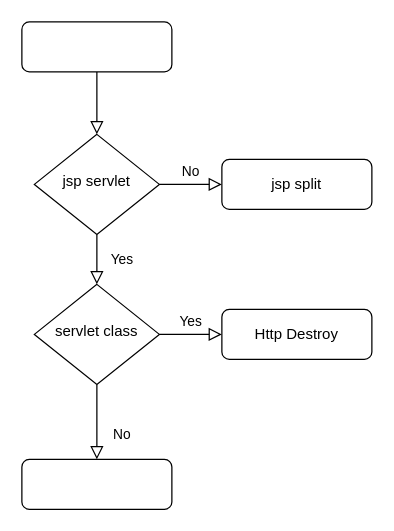
This 394x531 diagram has some shape labels left out. The shapes that lost their labels are listed below. From the top down, each one's centre as x and y in pixels, then its label:
At point 96,46: "jsp file".
At point 96,483: "Http service".
